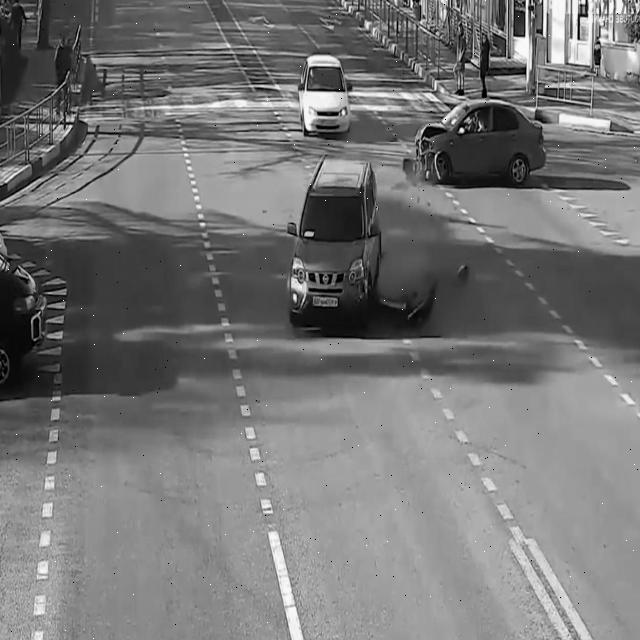accident: (280, 155, 438, 336), (401, 91, 548, 190)
